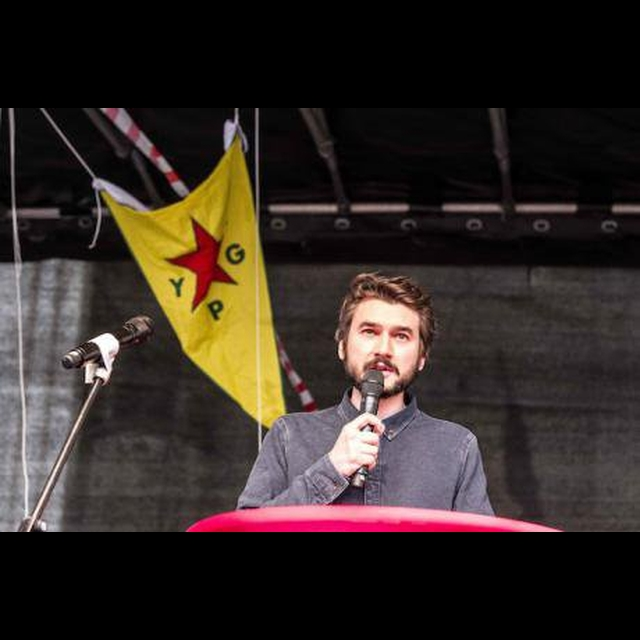YPG: (157, 214, 251, 323)
